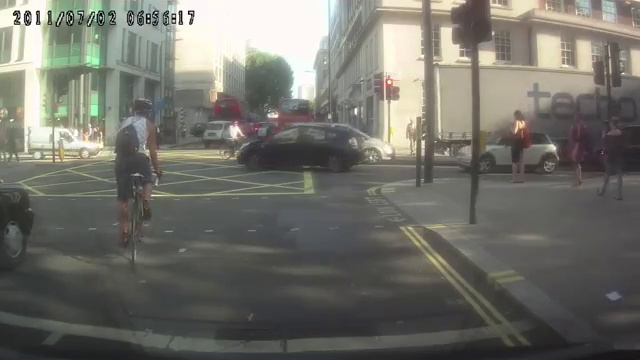cyclist_back: (112, 94, 160, 276)
cyclist_side: (218, 118, 252, 163)
